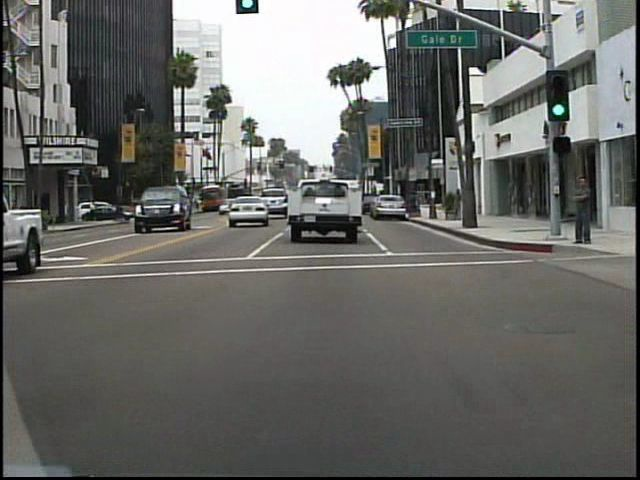person: (568, 169, 594, 251), (453, 186, 465, 198)
